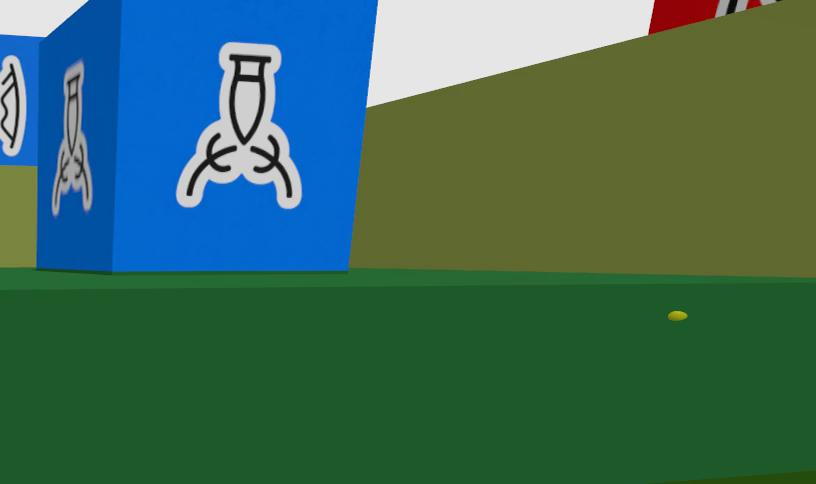KFS_REAL: (29, 0, 376, 272), (176, 42, 301, 208), (51, 61, 93, 215), (0, 35, 41, 164), (0, 55, 27, 157), (0, 55, 26, 156)
